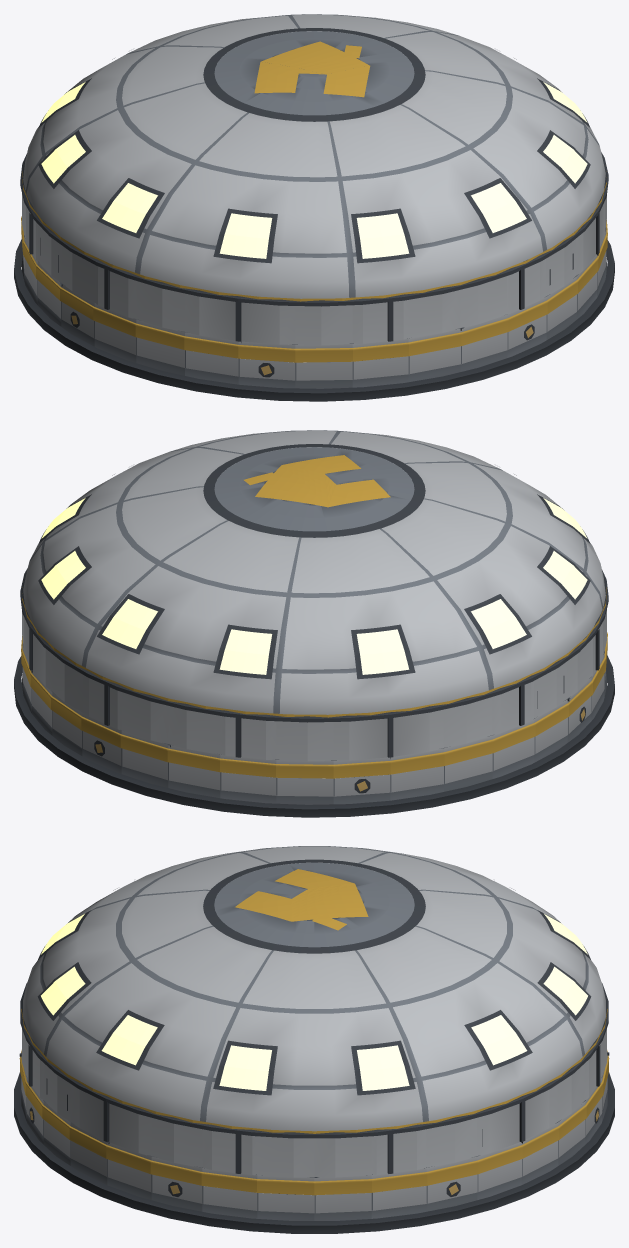
File: habitat_m_far.glb
The picture shows the model from 3 angles, top to bottom: view 1: azimuth 30°, elevation 25°; view 2: azimuth 150°, elevation 25°; view 3: azimuth 270°, elevation 25°; orthographic projection.
Visible parts, largest first — view 1: Roof, Base; view 2: Roof, Base; view 3: Roof, Base.
Boxes of the visible parts, x1,y1,x2,y2 form: Roof: (20, 14, 608, 345); Base: (14, 216, 614, 401); Roof: (20, 430, 608, 761); Base: (14, 632, 614, 817); Roof: (20, 846, 608, 1177); Base: (14, 1050, 614, 1233).
Size of the model in its own units: 16.26 by 6.24 by 16.26.
